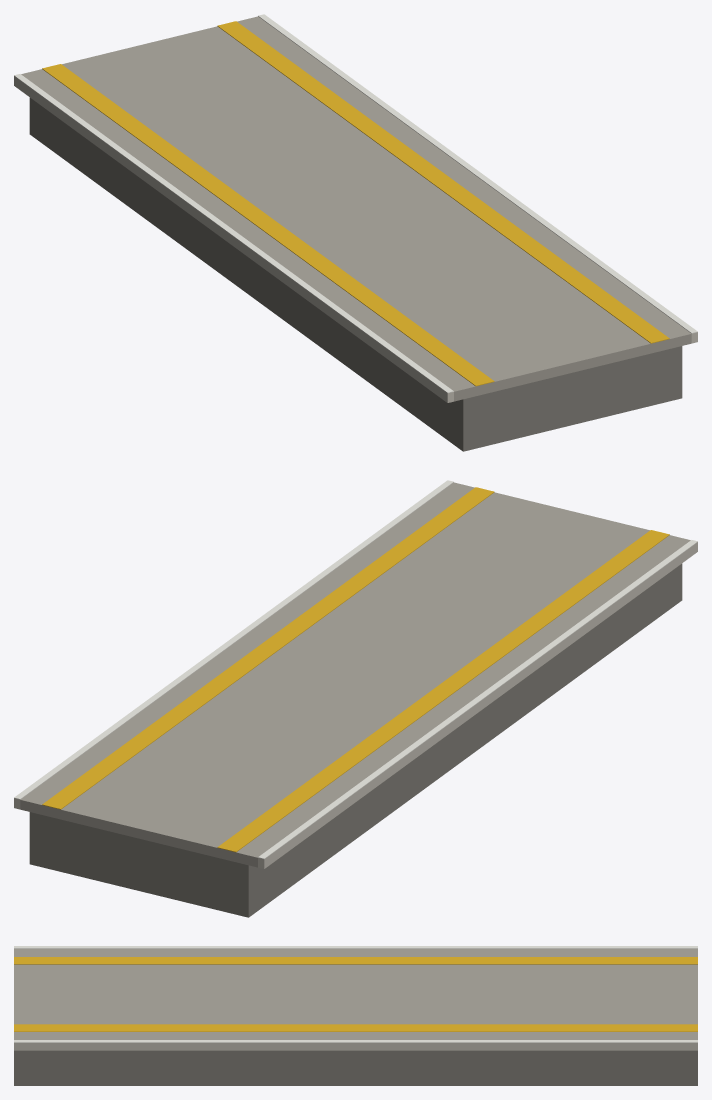
The model's file is platform_slab.glb.
3 renders of one model, top to bottom at view 1: azimuth 30°, elevation 25°; view 2: azimuth 150°, elevation 25°; view 3: azimuth 270°, elevation 25°, orthographic. The views are drawn at different scales.
Visible parts, largest first — view 1: PlatformSlab; view 2: PlatformSlab; view 3: PlatformSlab.
Boxes of the visible parts, box(x1,y1,x2,y2) form: PlatformSlab: box(14, 14, 697, 451); PlatformSlab: box(14, 480, 697, 917); PlatformSlab: box(14, 946, 697, 1085).
Size of what is drawn, in the model's own units: 4 by 0.96 by 12.
